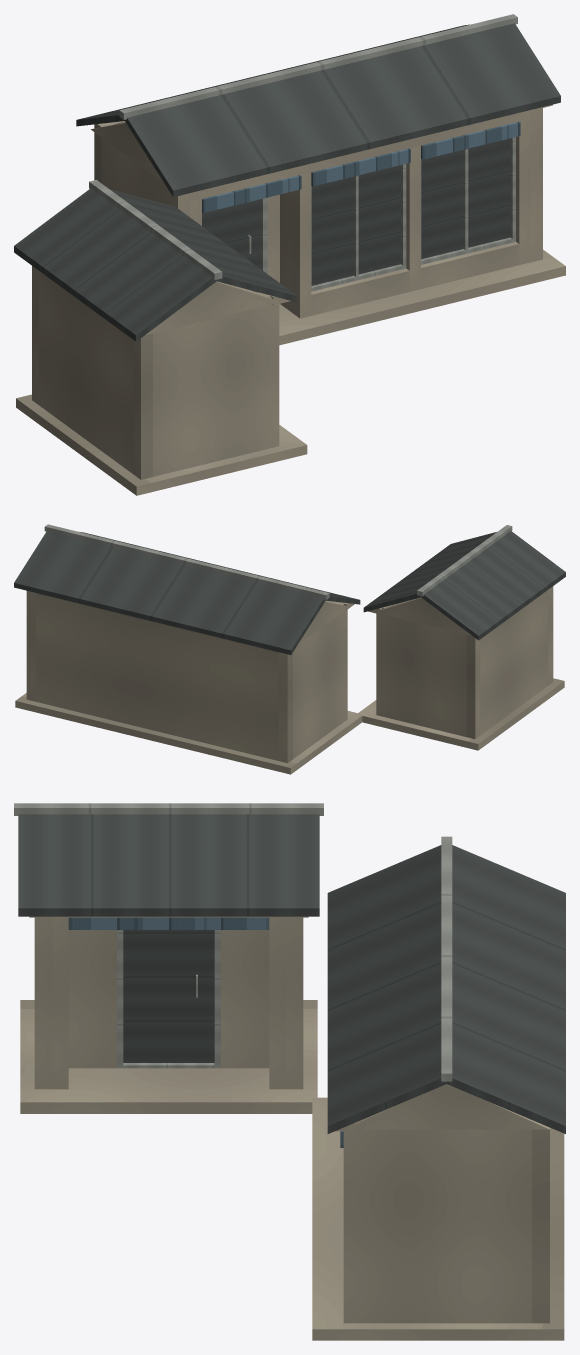
Rendered from rome.glb.
3 renders of one model, top to bottom at view 1: azimuth 30°, elevation 25°; view 2: azimuth 150°, elevation 25°; view 3: azimuth 270°, elevation 25°, orthographic. The views are drawn at different scales.
Parts seen in each view (by area): view 1: rome; view 2: rome; view 3: rome.
Boxes of the visible parts, <box> form: rome: <box>14,14,565,495</box>; rome: <box>14,524,565,774</box>; rome: <box>14,803,565,1340</box>.
Bounding box in the file's own units: 8.6 × 3.25 × 6.03.
Materials: 1 (1 with a texture image).
